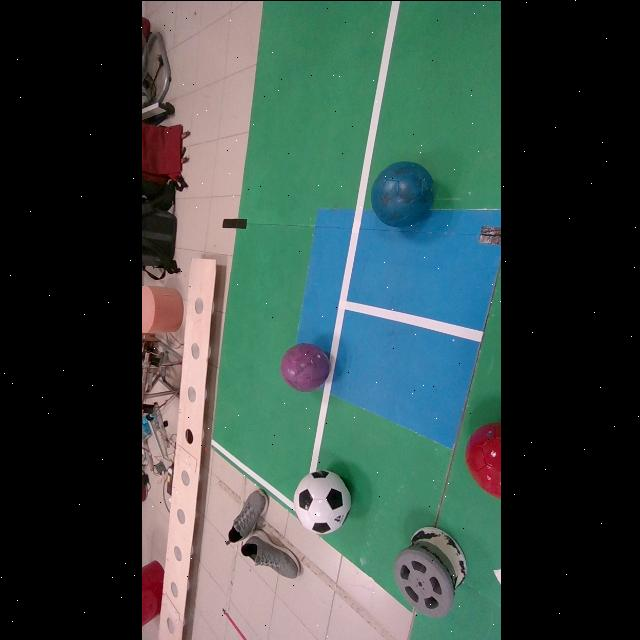B: (370, 161, 433, 227)
P: (278, 342, 329, 391)
R: (463, 422, 500, 500)
